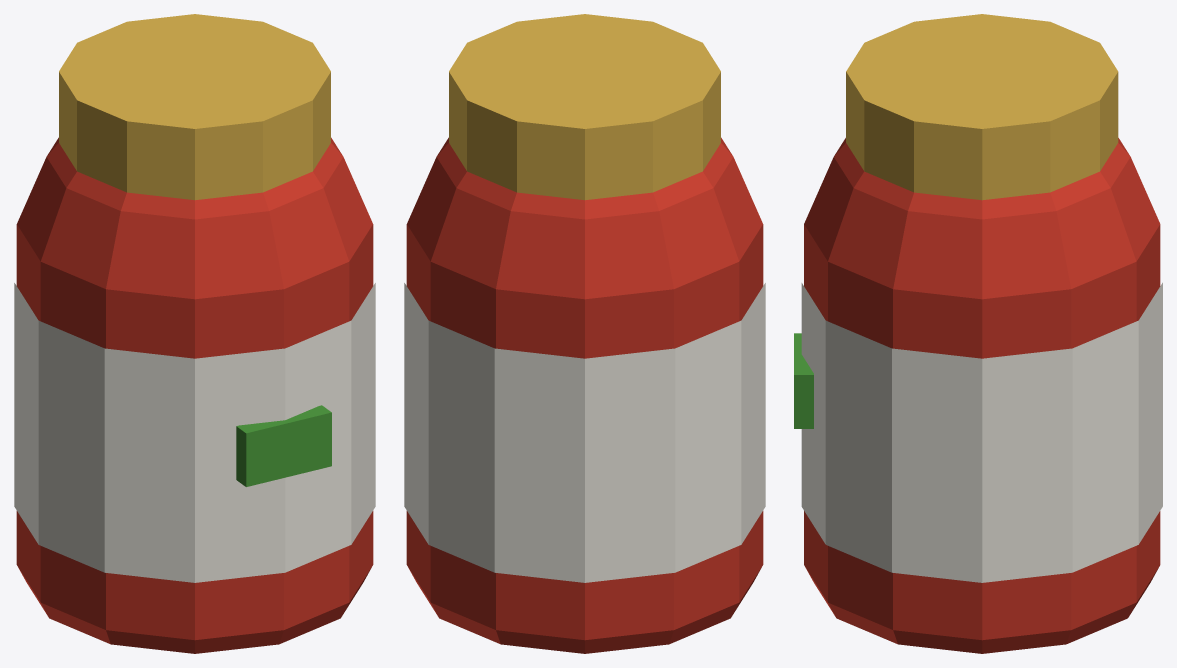
Rendered from g-sauce.glb.
3 views of the same model, side by side, from view 1: azimuth 30°, elevation 25°; view 2: azimuth 150°, elevation 25°; view 3: azimuth 270°, elevation 25° (orthographic).
Parts seen in each view (by area): view 1: g_sauce; view 2: g_sauce; view 3: g_sauce.
Part boxes in pixels (<box>): g_sauce: <box>14,14,375,653</box>; g_sauce: <box>404,14,765,653</box>; g_sauce: <box>794,14,1162,653</box>.
Bounding box in the file's own units: 0.073 × 0.114 × 0.0745.
